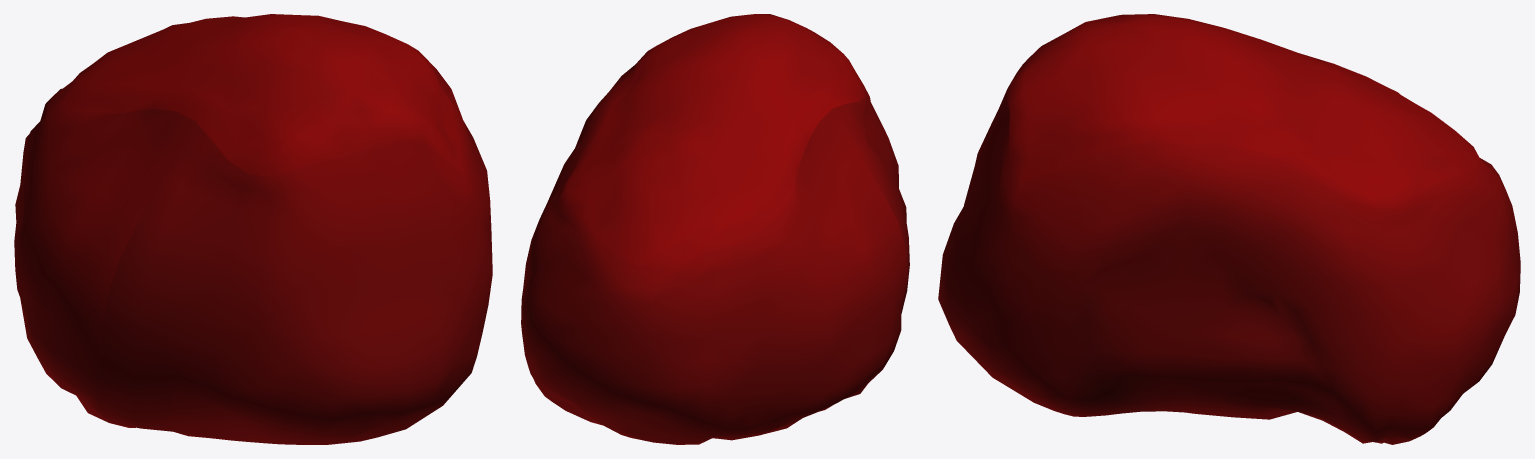
The model's file is geology-rocks-rocklarge_v7.fbx.
3 views of the same model, side by side, from view 1: azimuth 30°, elevation 25°; view 2: azimuth 150°, elevation 25°; view 3: azimuth 270°, elevation 25° (orthographic). The views are drawn at different scales.
Parts seen in each view (by area): view 1: RockLarge_v7; view 2: RockLarge_v7; view 3: RockLarge_v7.
Boxes of the visible parts, x1,y1,x2,y2 form: RockLarge_v7: (14, 14, 492, 444); RockLarge_v7: (521, 14, 909, 444); RockLarge_v7: (938, 14, 1520, 444).
Size of the model in its own units: 8.38 by 8.82 by 12.14.
